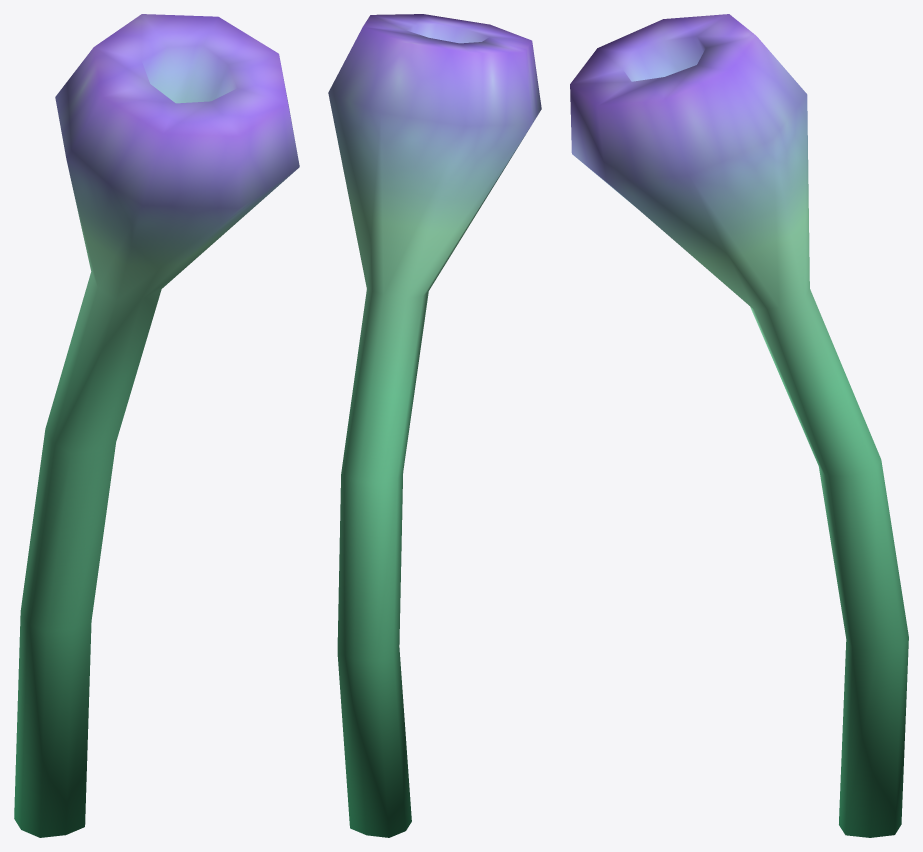
File: GroundCover2.001.fbx
3 views of the same model, side by side, from view 1: azimuth 30°, elevation 25°; view 2: azimuth 150°, elevation 25°; view 3: azimuth 270°, elevation 25° (orthographic). The views are drawn at different scales.
Parts seen in each view (by area): view 1: Stem.011; view 2: Stem.011; view 3: Stem.011.
Part boxes in pixels (left/top/right/bottom): Stem.011: left=14, top=14, right=299, bottom=837; Stem.011: left=328, top=14, right=541, bottom=837; Stem.011: left=570, top=14, right=908, bottom=837.
Size of the model in its own units: 102 by 370 by 141.
Materials: 1 (1 with a texture image).
